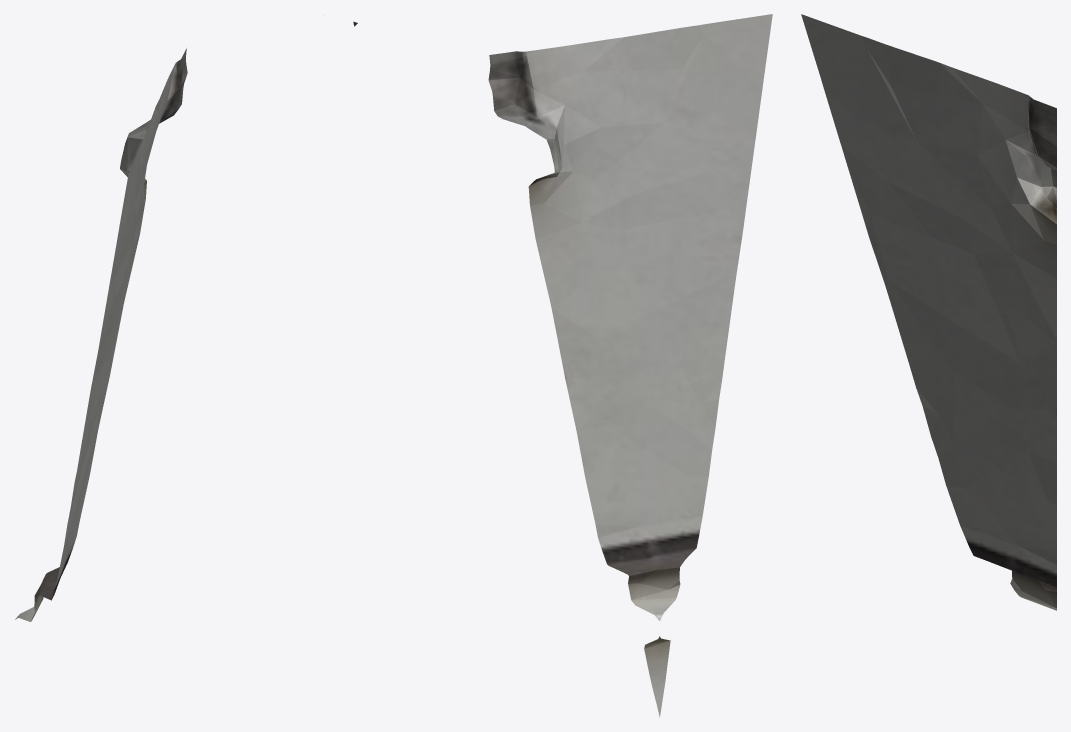
3 views of the same model, side by side, from view 1: azimuth 30°, elevation 25°; view 2: azimuth 150°, elevation 25°; view 3: azimuth 270°, elevation 25° (orthographic). The views are drawn at different scales.
Bounding box in the file's own units: 0.7047 × 1.36 × 0.4495.
Materials: 1 (1 with a texture image).
